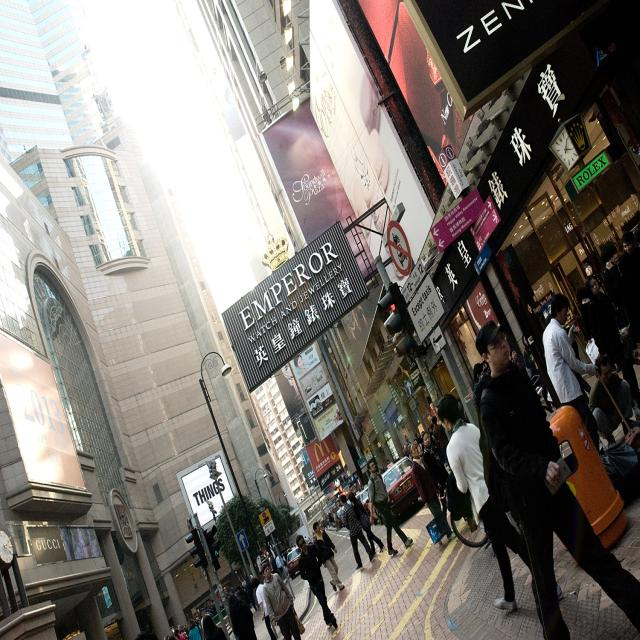body: (472, 318, 640, 640), (436, 391, 563, 610), (541, 292, 602, 458), (580, 274, 640, 397), (340, 123, 395, 240), (363, 456, 414, 558), (407, 442, 457, 546), (586, 352, 638, 452), (295, 533, 339, 630), (258, 560, 308, 639), (599, 239, 640, 325), (387, 412, 444, 466), (344, 490, 386, 557), (421, 429, 450, 522), (521, 333, 556, 410), (311, 518, 346, 594), (340, 494, 375, 570), (251, 576, 277, 640), (470, 361, 491, 429), (228, 593, 258, 640), (619, 231, 640, 276), (133, 623, 188, 640), (320, 500, 343, 529), (242, 574, 258, 612), (270, 547, 288, 572), (294, 352, 313, 375), (509, 347, 525, 370), (456, 395, 468, 423), (187, 618, 202, 640), (275, 553, 286, 581), (226, 579, 246, 593), (200, 609, 211, 633), (201, 600, 217, 616), (216, 593, 230, 608), (235, 592, 248, 608), (193, 610, 201, 630), (378, 459, 388, 474), (258, 563, 264, 584), (288, 540, 296, 550), (345, 492, 348, 501), (250, 575, 254, 581), (352, 490, 357, 494), (303, 535, 306, 537)
